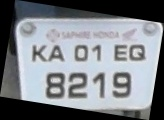character: (44, 71, 65, 98), (111, 71, 131, 98), (67, 72, 87, 98), (91, 70, 105, 98), (128, 43, 146, 60), (112, 43, 128, 60), (30, 43, 45, 61), (73, 44, 88, 61), (48, 45, 63, 61), (91, 43, 101, 61)
